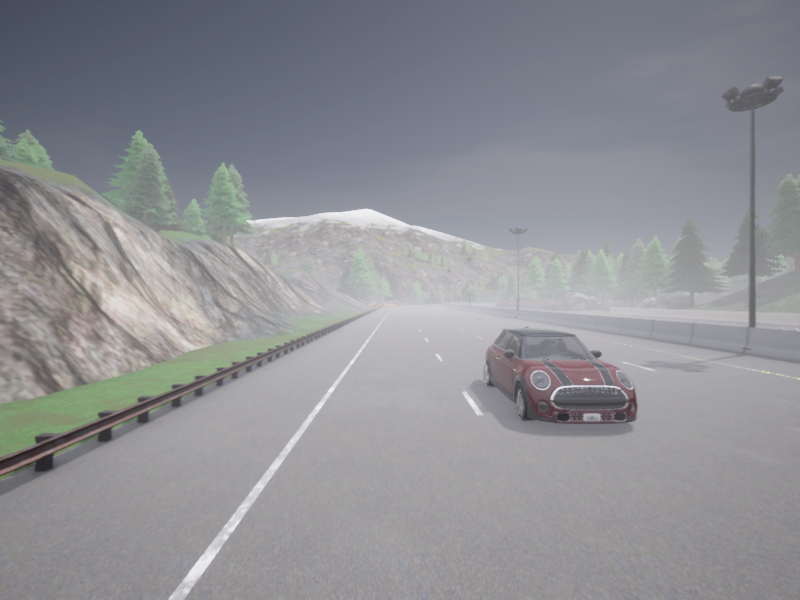vehicle: (484, 323, 637, 423), (503, 297, 515, 299)
